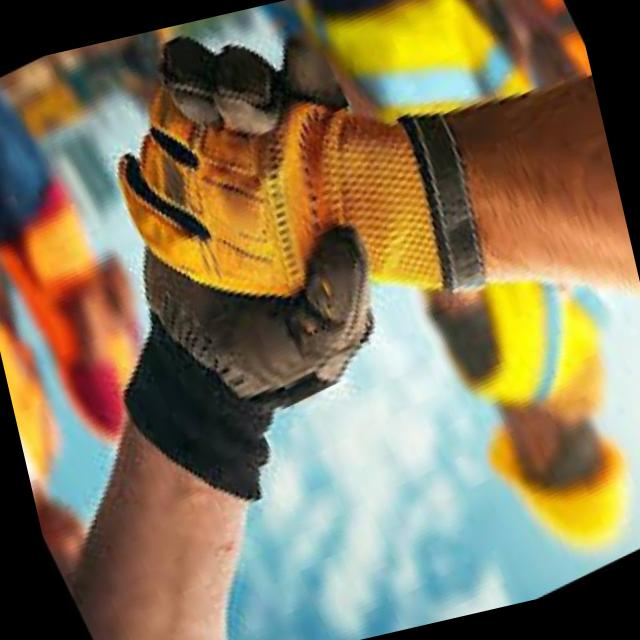gloved: (74, 0, 536, 442), (66, 191, 444, 557)
